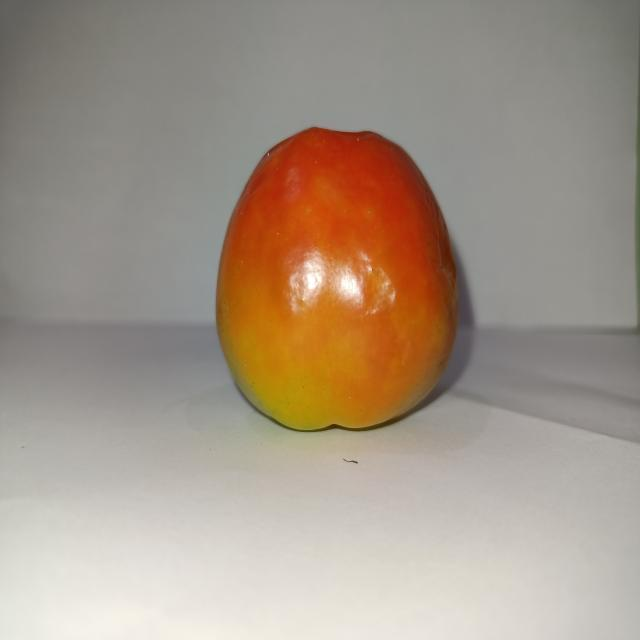Red: (213, 124, 459, 432)
